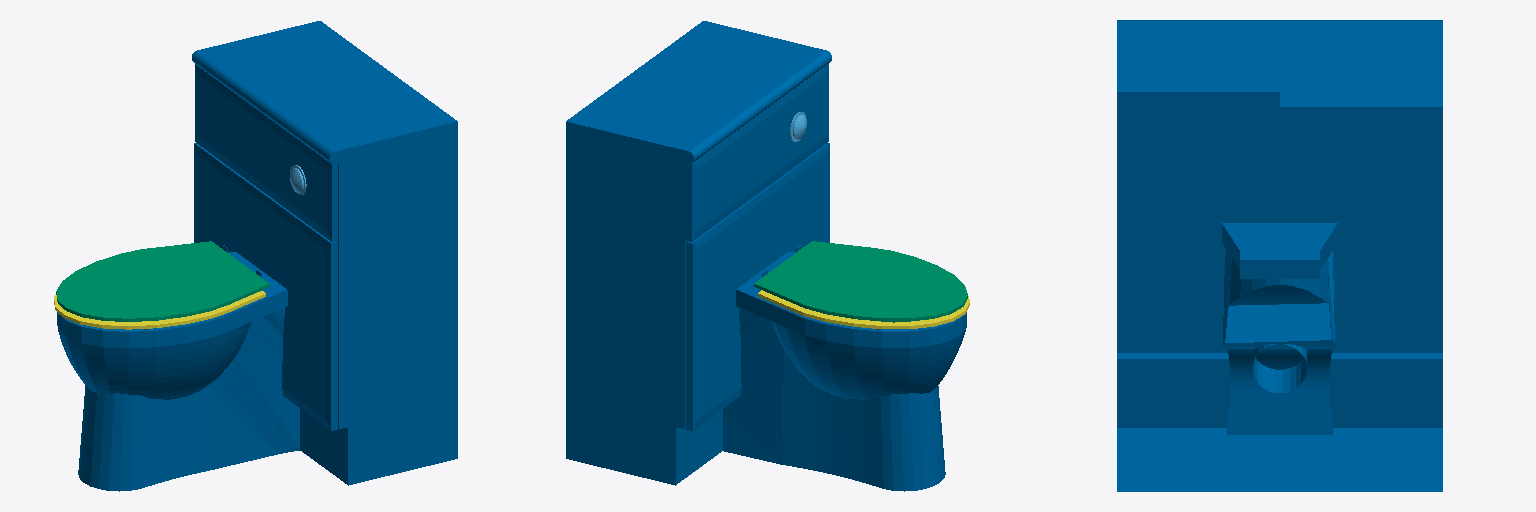
robot.urdf — partnet_f978fdb71bfab2174ddfc542c04e0efc:
<robot name="partnet_f978fdb71bfab2174ddfc542c04e0efc">
	<link name="base" />
	<link name="link_0">
		<collision>
			<origin xyz="0 0 0" />
			<geometry>
				<mesh filename="new_objs/102708_link_0_1.obj" />
			</geometry>
		</collision>
	<collision>
			<origin xyz="0 0 0" />
			<geometry>
				<mesh filename="new_objs/102708_link_0_2.obj" />
			</geometry>
		</collision>
	<collision>
			<origin xyz="0 0 0" />
			<geometry>
				<mesh filename="new_objs/102708_link_0_3.obj" />
			</geometry>
		</collision>
	<collision>
			<origin xyz="0 0 0" />
			<geometry>
				<mesh filename="new_objs/102708_link_0_0.obj" />
			</geometry>
		</collision>
	<visual name="button-part[&quot;id]">
			<origin xyz="0 0 0" />
			<geometry>
				<mesh filename="textured_objs/original-29.obj" />
			</geometry>
		</visual>
		</link>
	<joint name="joint_0" type="prismatic">
		<origin xyz="0 0 0" />
		<axis xyz="0 0 -1" />
		<child link="link_0" />
		<parent link="link_3" />
		<limit lower="0" upper="0.01" />
	</joint>
	<link name="link_1">
		<collision>
			<origin xyz="0.1303749999999999 -0.068742263617506 -0.08279467272303064" />
			<geometry>
				<mesh filename="new_objs/102708_link_1_0.obj" />
			</geometry>
		</collision>
	<visual name="lid-part[&quot;id]">
			<origin xyz="0.1303749999999999 -0.068742263617506 -0.08279467272303064" />
			<geometry>
				<mesh filename="textured_objs/original-20.obj" />
			</geometry>
		</visual>
		</link>
	<joint name="joint_1" type="revolute">
		<origin xyz="-0.1303749999999999 0.068742263617506 0.08279467272303064" />
		<axis xyz="-1 0 0" />
		<child link="link_1" />
		<parent link="link_3" />
		<limit lower="-0.0" upper="1.658062789394613" />
	</joint>
	<link name="link_2">
		<collision>
			<origin xyz="0.1303749999999999 -0.068742263617506 -0.08279467272303064" />
			<geometry>
				<mesh filename="new_objs/102708_link_2_3.obj" />
			</geometry>
		</collision>
	<collision>
			<origin xyz="0.1303749999999999 -0.068742263617506 -0.08279467272303064" />
			<geometry>
				<mesh filename="new_objs/102708_link_2_5.obj" />
			</geometry>
		</collision>
	<collision>
			<origin xyz="0.1303749999999999 -0.068742263617506 -0.08279467272303064" />
			<geometry>
				<mesh filename="new_objs/102708_link_2_0.obj" />
			</geometry>
		</collision>
	<collision>
			<origin xyz="0.1303749999999999 -0.068742263617506 -0.08279467272303064" />
			<geometry>
				<mesh filename="new_objs/102708_link_2_7.obj" />
			</geometry>
		</collision>
	<collision>
			<origin xyz="0.1303749999999999 -0.068742263617506 -0.08279467272303064" />
			<geometry>
				<mesh filename="new_objs/102708_link_2_1.obj" />
			</geometry>
		</collision>
	<collision>
			<origin xyz="0.1303749999999999 -0.068742263617506 -0.08279467272303064" />
			<geometry>
				<mesh filename="new_objs/102708_link_2_6.obj" />
			</geometry>
		</collision>
	<collision>
			<origin xyz="0.1303749999999999 -0.068742263617506 -0.08279467272303064" />
			<geometry>
				<mesh filename="new_objs/102708_link_2_2.obj" />
			</geometry>
		</collision>
	<collision>
			<origin xyz="0.1303749999999999 -0.068742263617506 -0.08279467272303064" />
			<geometry>
				<mesh filename="new_objs/102708_link_2_4.obj" />
			</geometry>
		</collision>
	<collision>
			<origin xyz="0.1303749999999999 -0.068742263617506 -0.08279467272303064" />
			<geometry>
				<mesh filename="new_objs/102708_link_2_8.obj" />
			</geometry>
		</collision>
	<visual name="seat-part[&quot;id]">
			<origin xyz="0.1303749999999999 -0.068742263617506 -0.08279467272303064" />
			<geometry>
				<mesh filename="textured_objs/original-9.obj" />
			</geometry>
		</visual>
		</link>
	<joint name="joint_2" type="revolute">
		<origin xyz="-0.1303749999999999 0.068742263617506 0.08279467272303064" />
		<axis xyz="-1 0 0" />
		<child link="link_2" />
		<parent link="link_3" />
		<limit lower="-0.0" upper="1.658062789394613" />
	</joint>
	<link name="link_3">
		<collision>
			<origin xyz="0 0 0" />
			<geometry>
				<mesh filename="new_objs/102708_link_3_25.obj" />
			</geometry>
		</collision>
		<collision>
			<origin xyz="0 0 0" />
			<geometry>
				<mesh filename="new_objs/102708_link_3_61.obj" />
			</geometry>
		</collision>
		<collision>
			<origin xyz="0 0 0" />
			<geometry>
				<mesh filename="new_objs/102708_link_3_44.obj" />
			</geometry>
		</collision>
		<collision>
			<origin xyz="0 0 0" />
			<geometry>
				<mesh filename="new_objs/102708_link_3_27.obj" />
			</geometry>
		</collision>
		<collision>
			<origin xyz="0 0 0" />
			<geometry>
				<mesh filename="new_objs/102708_link_3_68.obj" />
			</geometry>
		</collision>
		<collision>
			<origin xyz="0 0 0" />
			<geometry>
				<mesh filename="new_objs/102708_link_3_13.obj" />
			</geometry>
		</collision>
		<collision>
			<origin xyz="0 0 0" />
			<geometry>
				<mesh filename="new_objs/102708_link_3_42.obj" />
			</geometry>
		</collision>
		<collision>
			<origin xyz="0 0 0" />
			<geometry>
				<mesh filename="new_objs/102708_link_3_70.obj" />
			</geometry>
		</collision>
		<collision>
			<origin xyz="0 0 0" />
			<geometry>
				<mesh filename="new_objs/102708_link_3_1.obj" />
			</geometry>
		</collision>
		<collision>
			<origin xyz="0 0 0" />
			<geometry>
				<mesh filename="new_objs/102708_link_3_65.obj" />
			</geometry>
		</collision>
		<collision>
			<origin xyz="0 0 0" />
			<geometry>
				<mesh filename="new_objs/102708_link_3_63.obj" />
			</geometry>
		</collision>
		<collision>
			<origin xyz="0 0 0" />
			<geometry>
				<mesh filename="new_objs/102708_link_3_22.obj" />
			</geometry>
		</collision>
		<collision>
			<origin xyz="0 0 0" />
			<geometry>
				<mesh filename="new_objs/102708_link_3_6.obj" />
			</geometry>
		</collision>
		<collision>
			<origin xyz="0 0 0" />
			<geometry>
				<mesh filename="new_objs/102708_link_3_56.obj" />
			</geometry>
		</collision>
		<collision>
			<origin xyz="0 0 0" />
			<geometry>
				<mesh filename="new_objs/102708_link_3_38.obj" />
			</geometry>
		</collision>
		<collision>
			<origin xyz="0 0 0" />
			<geometry>
				<mesh filename="new_objs/102708_link_3_11.obj" />
			</geometry>
		</collision>
		<collision>
			<origin xyz="0 0 0" />
			<geometry>
				<mesh filename="new_objs/102708_link_3_4.obj" />
			</geometry>
		</collision>
		<collision>
			<origin xyz="0 0 0" />
			<geometry>
				<mesh filename="new_objs/102708_link_3_48.obj" />
			</geometry>
		</collision>
		<collision>
			<origin xyz="0 0 0" />
			<geometry>
				<mesh filename="new_objs/102708_link_3_52.obj" />
			</geometry>
		</collision>
		<collision>
			<origin xyz="0 0 0" />
			<geometry>
				<mesh filename="new_objs/102708_link_3_69.obj" />
			</geometry>
		</collision>
		<collision>
			<origin xyz="0 0 0" />
			<geometry>
				<mesh filename="new_objs/102708_link_3_54.obj" />
			</geometry>
		</collision>
		<collision>
			<origin xyz="0 0 0" />
			<geometry>
				<mesh filename="new_objs/102708_link_3_9.obj" />
			</geometry>
		</collision>
		<collision>
			<origin xyz="0 0 0" />
			<geometry>
				<mesh filename="new_objs/102708_link_3_51.obj" />
			</geometry>
		</collision>
		<collision>
			<origin xyz="0 0 0" />
			<geometry>
				<mesh filename="new_objs/102708_link_3_8.obj" />
			</geometry>
		</collision>
		<collision>
			<origin xyz="0 0 0" />
			<geometry>
				<mesh filename="new_objs/102708_link_3_10.obj" />
			</geometry>
		</collision>
		<collision>
			<origin xyz="0 0 0" />
			<geometry>
				<mesh filename="new_objs/102708_link_3_28.obj" />
			</geometry>
		</collision>
		<collision>
			<origin xyz="0 0 0" />
			<geometry>
				<mesh filename="new_objs/102708_link_3_23.obj" />
			</geometry>
		</collision>
		<collision>
			<origin xyz="0 0 0" />
			<geometry>
				<mesh filename="new_objs/102708_link_3_26.obj" />
			</geometry>
		</collision>
		<collision>
			<origin xyz="0 0 0" />
			<geometry>
				<mesh filename="new_objs/102708_link_3_50.obj" />
			</geometry>
		</collision>
		<collision>
			<origin xyz="0 0 0" />
			<geometry>
				<mesh filename="new_objs/102708_link_3_31.obj" />
			</geometry>
		</collision>
		<collision>
			<origin xyz="0 0 0" />
			<geometry>
				<mesh filename="new_objs/102708_link_3_21.obj" />
			</geometry>
		</collision>
		<collision>
			<origin xyz="0 0 0" />
			<geometry>
				<mesh filename="new_objs/102708_link_3_20.obj" />
			</geometry>
		</collision>
		<collision>
			<origin xyz="0 0 0" />
			<geometry>
				<mesh filename="new_objs/102708_link_3_59.obj" />
			</geometry>
		</collision>
		<collision>
			<origin xyz="0 0 0" />
			<geometry>
				<mesh filename="new_objs/102708_link_3_2.obj" />
			</geometry>
		</collision>
		<collision>
			<origin xyz="0 0 0" />
			<geometry>
				<mesh filename="new_objs/102708_link_3_17.obj" />
			</geometry>
		</collision>
		<collision>
			<origin xyz="0 0 0" />
			<geometry>
				<mesh filename="new_objs/102708_link_3_55.obj" />
			</geometry>
		</collision>
		<collision>
			<origin xyz="0 0 0" />
			<geometry>
				<mesh filename="new_objs/102708_link_3_19.obj" />
			</geometry>
		</collision>
		<collision>
			<origin xyz="0 0 0" />
			<geometry>
				<mesh filename="new_objs/102708_link_3_47.obj" />
			</geometry>
		</collision>
		<collision>
			<origin xyz="0 0 0" />
			<geometry>
				<mesh filename="new_objs/102708_link_3_16.obj" />
			</geometry>
		</collision>
		<collision>
			<origin xyz="0 0 0" />
			<geometry>
				<mesh filename="new_objs/102708_link_3_49.obj" />
			</geometry>
		</collision>
		<collision>
			<origin xyz="0 0 0" />
			<geometry>
				<mesh filename="new_objs/102708_link_3_62.obj" />
			</geometry>
		</collision>
		<collision>
			<origin xyz="0 0 0" />
			<geometry>
				<mesh filename="new_objs/102708_link_3_39.obj" />
			</geometry>
		</collision>
		<collision>
			<origin xyz="0 0 0" />
			<geometry>
				<mesh filename="new_objs/102708_link_3_24.obj" />
			</geometry>
		</collision>
		<collision>
			<origin xyz="0 0 0" />
			<geometry>
				<mesh filename="new_objs/102708_link_3_32.obj" />
			</geometry>
		</collision>
		<collision>
			<origin xyz="0 0 0" />
			<geometry>
				<mesh filename="new_objs/102708_link_3_3.obj" />
			</geometry>
		</collision>
		<collision>
			<origin xyz="0 0 0" />
			<geometry>
				<mesh filename="new_objs/102708_link_3_15.obj" />
			</geometry>
		</collision>
		<collision>
			<origin xyz="0 0 0" />
			<geometry>
				<mesh filename="new_objs/102708_link_3_0.obj" />
			</geometry>
		</collision>
		<collision>
			<origin xyz="0 0 0" />
			<geometry>
				<mesh filename="new_objs/102708_link_3_46.obj" />
			</geometry>
		</collision>
		<collision>
			<origin xyz="0 0 0" />
			<geometry>
				<mesh filename="new_objs/102708_link_3_53.obj" />
			</geometry>
		</collision>
		<collision>
			<origin xyz="0 0 0" />
			<geometry>
				<mesh filename="new_objs/102708_link_3_12.obj" />
			</geometry>
		</collision>
		<collision>
			<origin xyz="0 0 0" />
			<geometry>
				<mesh filename="new_objs/102708_link_3_37.obj" />
			</geometry>
		</collision>
		<collision>
			<origin xyz="0 0 0" />
			<geometry>
				<mesh filename="new_objs/102708_link_3_60.obj" />
			</geometry>
		</collision>
		<collision>
			<origin xyz="0 0 0" />
			<geometry>
				<mesh filename="new_objs/102708_link_3_7.obj" />
			</geometry>
		</collision>
		<collision>
			<origin xyz="0 0 0" />
			<geometry>
				<mesh filename="new_objs/102708_link_3_35.obj" />
			</geometry>
		</collision>
		<collision>
			<origin xyz="0 0 0" />
			<geometry>
				<mesh filename="new_objs/102708_link_3_40.obj" />
			</geometry>
		</collision>
		<collision>
			<origin xyz="0 0 0" />
			<geometry>
				<mesh filename="new_objs/102708_link_3_36.obj" />
			</geometry>
		</collision>
		<collision>
			<origin xyz="0 0 0" />
			<geometry>
				<mesh filename="new_objs/102708_link_3_57.obj" />
			</geometry>
		</collision>
		<collision>
			<origin xyz="0 0 0" />
			<geometry>
				<mesh filename="new_objs/102708_link_3_66.obj" />
			</geometry>
		</collision>
		<collision>
			<origin xyz="0 0 0" />
			<geometry>
				<mesh filename="new_objs/102708_link_3_64.obj" />
			</geometry>
		</collision>
		<collision>
			<origin xyz="0 0 0" />
			<geometry>
				<mesh filename="new_objs/102708_link_3_45.obj" />
			</geometry>
		</collision>
		<collision>
			<origin xyz="0 0 0" />
			<geometry>
				<mesh filename="new_objs/102708_link_3_5.obj" />
			</geometry>
		</collision>
		<collision>
			<origin xyz="0 0 0" />
			<geometry>
				<mesh filename="new_objs/102708_link_3_58.obj" />
			</geometry>
		</collision>
		<collision>
			<origin xyz="0 0 0" />
			<geometry>
				<mesh filename="new_objs/102708_link_3_29.obj" />
			</geometry>
		</collision>
		<collision>
			<origin xyz="0 0 0" />
			<geometry>
				<mesh filename="new_objs/102708_link_3_67.obj" />
			</geometry>
		</collision>
		<collision>
			<origin xyz="0 0 0" />
			<geometry>
				<mesh filename="new_objs/102708_link_3_41.obj" />
			</geometry>
		</collision>
		<collision>
			<origin xyz="0 0 0" />
			<geometry>
				<mesh filename="new_objs/102708_link_3_14.obj" />
			</geometry>
		</collision>
		<collision>
			<origin xyz="0 0 0" />
			<geometry>
				<mesh filename="new_objs/102708_link_3_18.obj" />
			</geometry>
		</collision>
		<collision>
			<origin xyz="0 0 0" />
			<geometry>
				<mesh filename="new_objs/102708_link_3_30.obj" />
			</geometry>
		</collision>
		<collision>
			<origin xyz="0 0 0" />
			<geometry>
				<mesh filename="new_objs/102708_link_3_43.obj" />
			</geometry>
		</collision>
		<collision>
			<origin xyz="0 0 0" />
			<geometry>
				<mesh filename="new_objs/102708_link_3_34.obj" />
			</geometry>
		</collision>
		<collision>
			<origin xyz="0 0 0" />
			<geometry>
				<mesh filename="new_objs/102708_link_3_33.obj" />
			</geometry>
		</collision>
		<visual name="base_body-part[&quot;id]">
			<origin xyz="0 0 0" />
			<geometry>
				<mesh filename="textured_objs/original-21.obj" />
			</geometry>
		</visual>
		<visual name="base_body-part[&quot;id]">
			<origin xyz="0 0 0" />
			<geometry>
				<mesh filename="textured_objs/original-28.obj" />
			</geometry>
		</visual>
		<visual name="base_body-part[&quot;id]">
			<origin xyz="0 0 0" />
			<geometry>
				<mesh filename="textured_objs/original-22.obj" />
			</geometry>
		</visual>
		<visual name="base_body-part[&quot;id]">
			<origin xyz="0 0 0" />
			<geometry>
				<mesh filename="textured_objs/original-26.obj" />
			</geometry>
		</visual>
		<visual name="base_body-part[&quot;id]">
			<origin xyz="0 0 0" />
			<geometry>
				<mesh filename="textured_objs/original-4.obj" />
			</geometry>
		</visual>
		<visual name="base_body-part[&quot;id]">
			<origin xyz="0 0 0" />
			<geometry>
				<mesh filename="textured_objs/original-3.obj" />
			</geometry>
		</visual>
		<visual name="base_body-part[&quot;id]">
			<origin xyz="0 0 0" />
			<geometry>
				<mesh filename="textured_objs/original-13.obj" />
			</geometry>
		</visual>
		<visual name="base_body-part[&quot;id]">
			<origin xyz="0 0 0" />
			<geometry>
				<mesh filename="textured_objs/original-5.obj" />
			</geometry>
		</visual>
		<visual name="base_body-part[&quot;id]">
			<origin xyz="0 0 0" />
			<geometry>
				<mesh filename="textured_objs/original-27.obj" />
			</geometry>
		</visual>
		<visual name="base_body-part[&quot;id]">
			<origin xyz="0 0 0" />
			<geometry>
				<mesh filename="textured_objs/original-6.obj" />
			</geometry>
		</visual>
		<visual name="base_body-part[&quot;id]">
			<origin xyz="0 0 0" />
			<geometry>
				<mesh filename="textured_objs/original-15.obj" />
			</geometry>
		</visual>
		<visual name="base_body-part[&quot;id]">
			<origin xyz="0 0 0" />
			<geometry>
				<mesh filename="textured_objs/original-11.obj" />
			</geometry>
		</visual>
		<visual name="base_body-part[&quot;id]">
			<origin xyz="0 0 0" />
			<geometry>
				<mesh filename="textured_objs/original-18.obj" />
			</geometry>
		</visual>
		<visual name="base_body-part[&quot;id]">
			<origin xyz="0 0 0" />
			<geometry>
				<mesh filename="textured_objs/original-25.obj" />
			</geometry>
		</visual>
		<visual name="base_body-part[&quot;id]">
			<origin xyz="0 0 0" />
			<geometry>
				<mesh filename="textured_objs/original-12.obj" />
			</geometry>
		</visual>
		<visual name="base_body-part[&quot;id]">
			<origin xyz="0 0 0" />
			<geometry>
				<mesh filename="textured_objs/original-10.obj" />
			</geometry>
		</visual>
		<visual name="base_body-part[&quot;id]">
			<origin xyz="0 0 0" />
			<geometry>
				<mesh filename="textured_objs/original-14.obj" />
			</geometry>
		</visual>
		<visual name="base_body-part[&quot;id]">
			<origin xyz="0 0 0" />
			<geometry>
				<mesh filename="textured_objs/original-19.obj" />
			</geometry>
		</visual>
		</link>
	<joint name="joint_3" type="fixed">
		<origin rpy="1.570796326794897 0 -1.570796326794897" xyz="0 0 0" />
		<child link="link_3" />
		<parent link="base" />
	</joint>
</robot>

--- What the picture shows (computed from the rendered views, not written in the file) ---
The picture shows the robot from 3 angles, left to right: view 1: azimuth 30°, elevation 25°; view 2: azimuth 150°, elevation 25°; view 3: azimuth 270°, elevation 25°; orthographic projection.
Robot: partnet_f978fdb71bfab2174ddfc542c04e0efc — 5 links, 4 joints (2 revolute, 1 prismatic, 1 fixed); root link base; default pose: all joints at 0.
Links seen in each view (by area): view 1: link_3, link_1, link_2; view 2: link_3, link_1, link_2; view 3: link_3.
Boxes of the visible links, x1,y1,x2,y2 form: link_3: (57, 21, 457, 491); link_1: (56, 241, 269, 321); link_2: (54, 291, 265, 329); link_3: (566, 21, 966, 491); link_1: (754, 241, 967, 321); link_2: (758, 290, 969, 328); link_3: (1117, 20, 1442, 491).
Bounding box of the posed robot: 1.41 × 1.03 × 1.39 m (x, y, z).
21 mesh visuals loaded from 21 distinct referenced files (21 OBJ).
